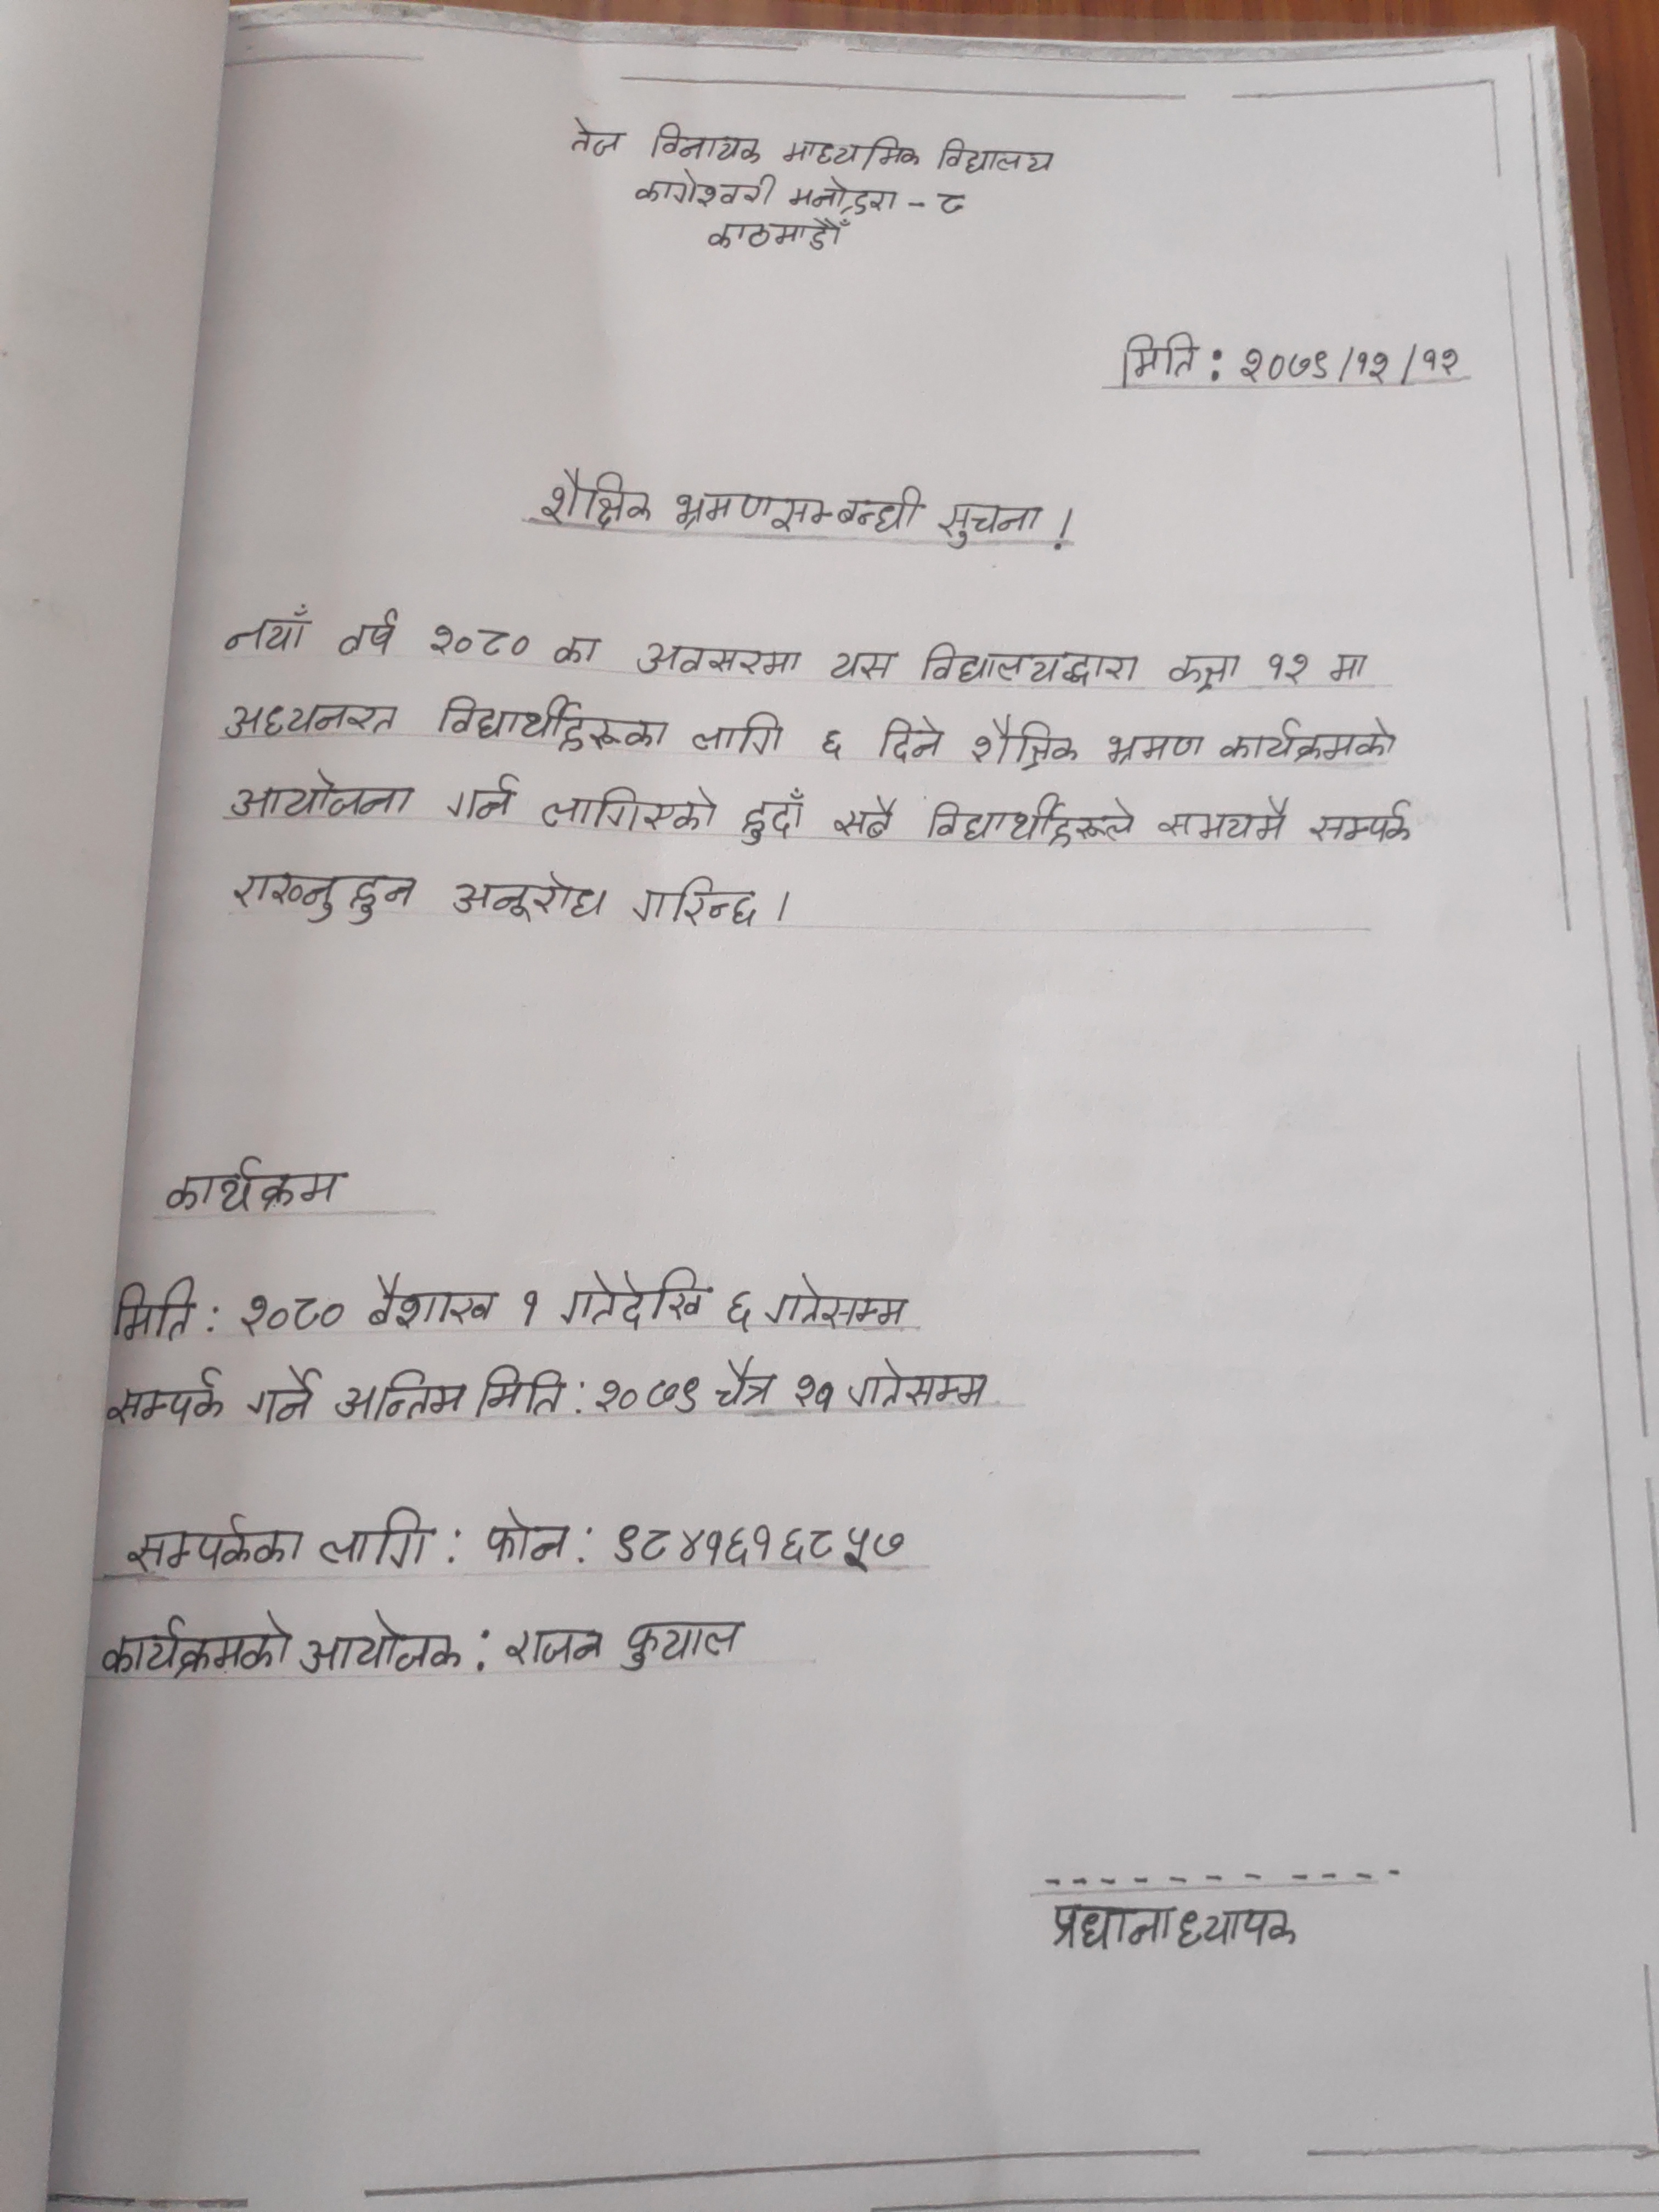text: (605, 1515, 913, 1575), (671, 482, 931, 543), (436, 691, 673, 758), (101, 1606, 291, 1679), (1039, 1900, 1302, 1951), (925, 789, 1140, 850), (122, 1510, 307, 1580), (915, 637, 1140, 691), (160, 1155, 354, 1216), (300, 1609, 464, 1681), (1237, 341, 1467, 390), (228, 766, 422, 822), (223, 871, 420, 925), (561, 1266, 714, 1331), (633, 631, 809, 686), (451, 871, 610, 930), (1220, 716, 1405, 766), (538, 462, 660, 536), (763, 1275, 913, 1336), (535, 786, 725, 833), (221, 695, 403, 744), (849, 1353, 992, 1414), (366, 1268, 504, 1331), (106, 1364, 230, 1433), (317, 1503, 437, 1573), (631, 873, 762, 934), (619, 1616, 746, 1676), (1155, 791, 1290, 846), (969, 709, 1084, 773), (706, 212, 861, 258), (108, 1271, 200, 1346), (333, 1369, 469, 1420), (784, 125, 922, 174), (636, 165, 781, 209), (939, 496, 1047, 554), (934, 132, 1060, 179), (647, 120, 765, 169), (481, 1505, 570, 1569), (1307, 798, 1420, 846), (246, 1362, 326, 1430), (472, 1364, 570, 1420), (237, 1291, 352, 1338), (420, 620, 538, 665), (1112, 331, 1202, 388), (223, 599, 314, 657), (592, 1372, 702, 1420), (786, 174, 899, 219), (504, 1620, 606, 1669), (688, 711, 791, 758), (741, 786, 810, 846), (1105, 730, 1209, 770), (1162, 646, 1248, 693), (711, 1355, 781, 1413), (443, 772, 519, 822), (336, 606, 404, 662), (824, 792, 901, 841), (882, 707, 943, 766), (828, 644, 901, 688), (565, 113, 629, 162), (549, 632, 606, 671), (1269, 646, 1314, 691), (1328, 650, 1373, 686), (931, 185, 972, 219), (819, 728, 849, 761)
